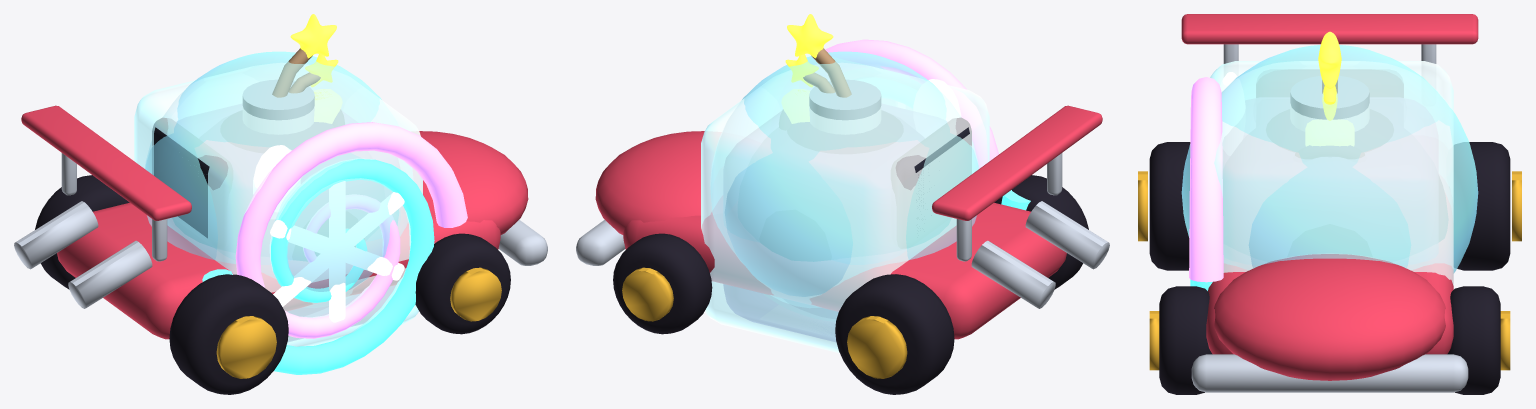
Rendered from common.glb.
3 views of the same model, side by side, from view 1: azimuth 30°, elevation 25°; view 2: azimuth 150°, elevation 25°; view 3: azimuth 270°, elevation 25° (orthographic). The views are drawn at different scales.
Visible parts, largest first — view 1: kart_mesh, icon_shield_mesh, icon_freeze_mesh, icon_warp_mesh, icon_bomb_mesh, bomb_mesh, item_box_mesh; view 2: kart_mesh, icon_freeze_mesh, icon_shield_mesh, icon_warp_mesh, icon_bomb_mesh, item_box_mesh, bomb_mesh; view 3: kart_mesh, icon_shield_mesh, icon_freeze_mesh, icon_warp_mesh, icon_bomb_mesh, bomb_mesh.
Boxes of the visible parts, bbox=[...] form: kart_mesh: bbox=[14, 105, 547, 394]; icon_shield_mesh: bbox=[145, 51, 411, 307]; icon_freeze_mesh: bbox=[134, 54, 422, 346]; icon_warp_mesh: bbox=[202, 122, 467, 374]; icon_bomb_mesh: bbox=[242, 14, 336, 120]; bomb_mesh: bbox=[289, 54, 338, 93]; item_box_mesh: bbox=[288, 285, 395, 341]; kart_mesh: bbox=[576, 105, 1109, 394]; icon_freeze_mesh: bbox=[701, 54, 989, 353]; icon_shield_mesh: bbox=[711, 51, 978, 307]; icon_warp_mesh: bbox=[825, 39, 1030, 210]; icon_bomb_mesh: bbox=[787, 14, 881, 120]; item_box_mesh: bbox=[723, 284, 837, 341]; bomb_mesh: bbox=[785, 54, 834, 93]; kart_mesh: bbox=[1138, 14, 1521, 394]; icon_shield_mesh: bbox=[1181, 45, 1478, 273]; icon_freeze_mesh: bbox=[1210, 61, 1453, 285]; icon_warp_mesh: bbox=[1189, 77, 1223, 290]; icon_bomb_mesh: bbox=[1290, 31, 1369, 119]; bomb_mesh: bbox=[1322, 86, 1337, 120].
Size of the model in its own units: 1.2 by 0.744 by 0.776.
